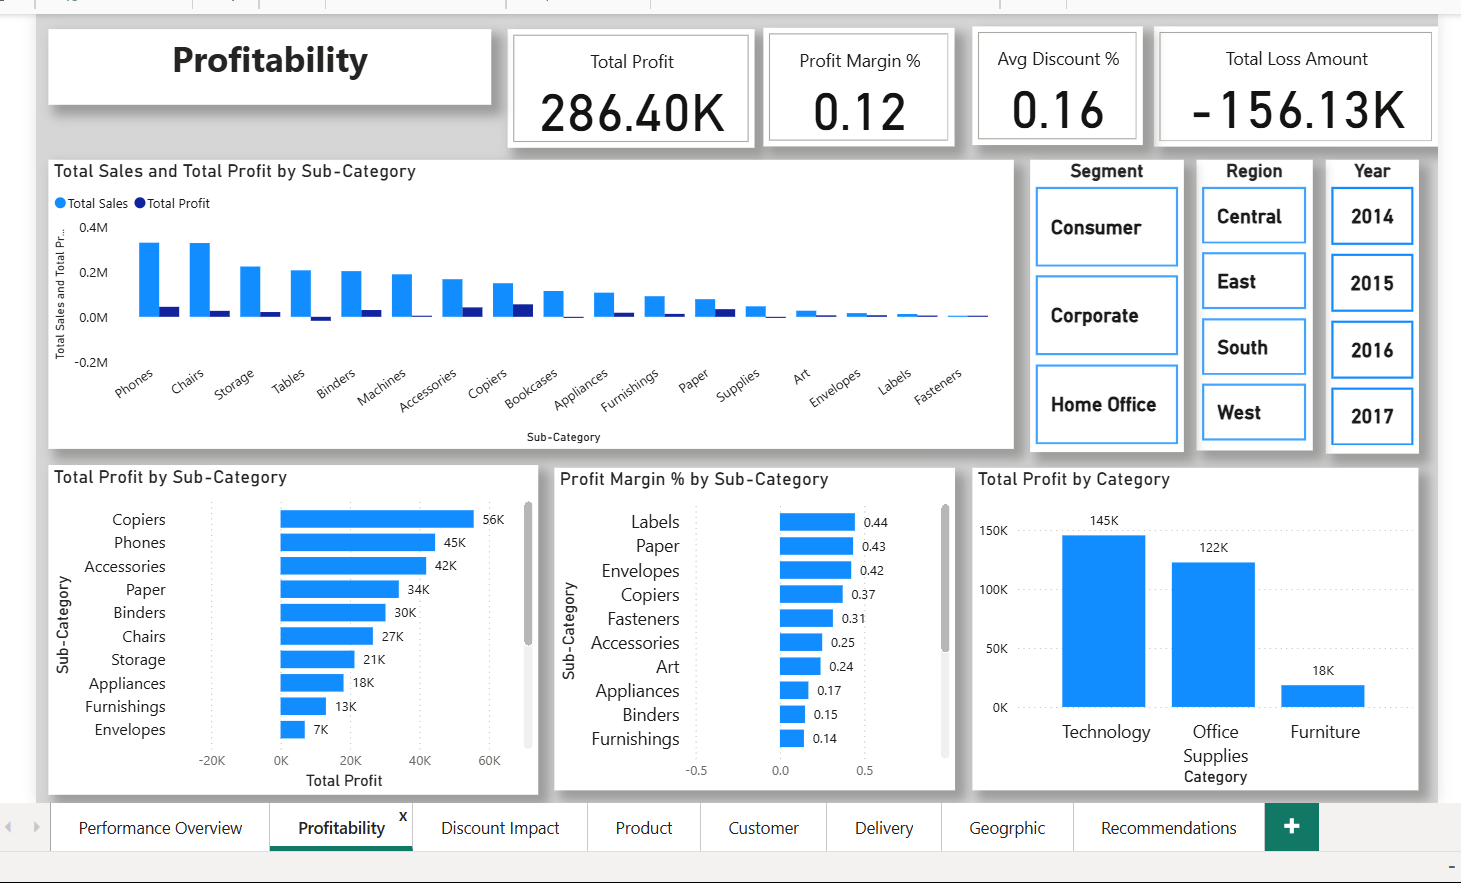

The dashboard page shown, as its layout file describes it:
{"tool":"powerbi","page":{"name":"Profitability","canvas":[1280,720],"ordinal":1},"visuals":[{"type":"cardVisual","fields":{"Data":["superstore.Total Profit"]},"box":[430.5,13.8,225.5,108.6],"z":0},{"type":"cardVisual","fields":{"Data":["superstore.Profit Margin %"]},"box":[664.3,12.4,174.7,108.6],"z":1000},{"type":"cardVisual","fields":{"Data":["superstore.Total Loss Amount"]},"box":[1020.5,11,259.9,110],"z":2000},{"type":"cardVisual","fields":{"Data":["superstore.Avg Discount %"]},"box":[855.4,11,155.4,108.6],"z":3000},{"type":"clusteredColumnChart","fields":{"Y":["superstore.Total Sales","superstore.Total Profit"],"Category":["superstore.Sub-Category"]},"box":[11,133.4,881.6,264.1],"z":4000},{"type":"clusteredBarChart","fields":{"Category":["superstore.Sub-Category"],"Y":["superstore.Total Profit"]},"box":[11,411.2,447,301.2],"z":5000},{"type":"clusteredBarChart","fields":{"Y":["superstore.Profit Margin %"],"Category":["superstore.Sub-Category"]},"box":[473.1,414,365.8,294.3],"z":6000},{"type":"advancedSlicerVisual","fields":{"Values":["DateTable.Date.Variation.Date Hierarchy.Year"]},"box":[1177.2,133.4,85.3,268.2],"z":7000},{"type":"advancedSlicerVisual","fields":{"Values":["superstore.Region"]},"box":[1059,133.4,105.9,265.4],"z":8000},{"type":"advancedSlicerVisual","fields":{"Values":["superstore.Segment"]},"box":[907.7,133.4,140.3,266.8],"z":9000},{"type":"clusteredColumnChart","fields":{"Category":["superstore.Category"],"Y":["superstore.Total Profit"]},"box":[855.4,414,407.1,294.3],"z":10000},{"type":"textbox","box":[11,13.8,404.3,68.8],"z":11000}]}

Visuals, with their boxes on the page's 1280x720 design canvas (x1, y1, x2, y2). These are canvas units, not pixel positions in the 1461x883 screenshot, which may show the page scaled, cropped or inside an application window:
cardVisual - superstore.Total Profit: left=430, top=14, right=656, bottom=122
cardVisual - superstore.Profit Margin %: left=664, top=12, right=839, bottom=121
cardVisual - superstore.Total Loss Amount: left=1020, top=11, right=1280, bottom=121
cardVisual - superstore.Avg Discount %: left=855, top=11, right=1011, bottom=120
clusteredColumnChart - superstore.Total Sales x superstore.Total Profit: left=11, top=133, right=893, bottom=398
clusteredBarChart - superstore.Sub-Category x superstore.Total Profit: left=11, top=411, right=458, bottom=712
clusteredBarChart - superstore.Profit Margin % x superstore.Sub-Category: left=473, top=414, right=839, bottom=708
advancedSlicerVisual - DateTable.Date.Variation.Date Hierarchy.Year: left=1177, top=133, right=1262, bottom=402
advancedSlicerVisual - superstore.Region: left=1059, top=133, right=1165, bottom=399
advancedSlicerVisual - superstore.Segment: left=908, top=133, right=1048, bottom=400
clusteredColumnChart - superstore.Category x superstore.Total Profit: left=855, top=414, right=1262, bottom=708
textbox: left=11, top=14, right=415, bottom=83
